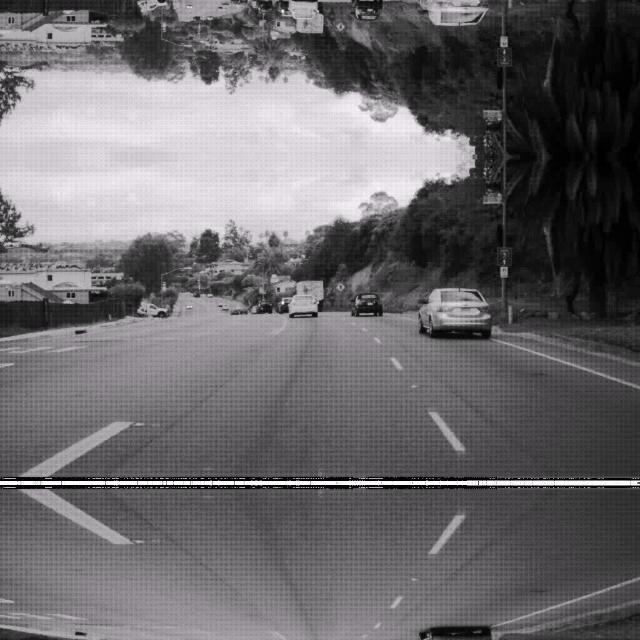pedestrianCrossing: (335, 281, 345, 291), (335, 21, 345, 31)
